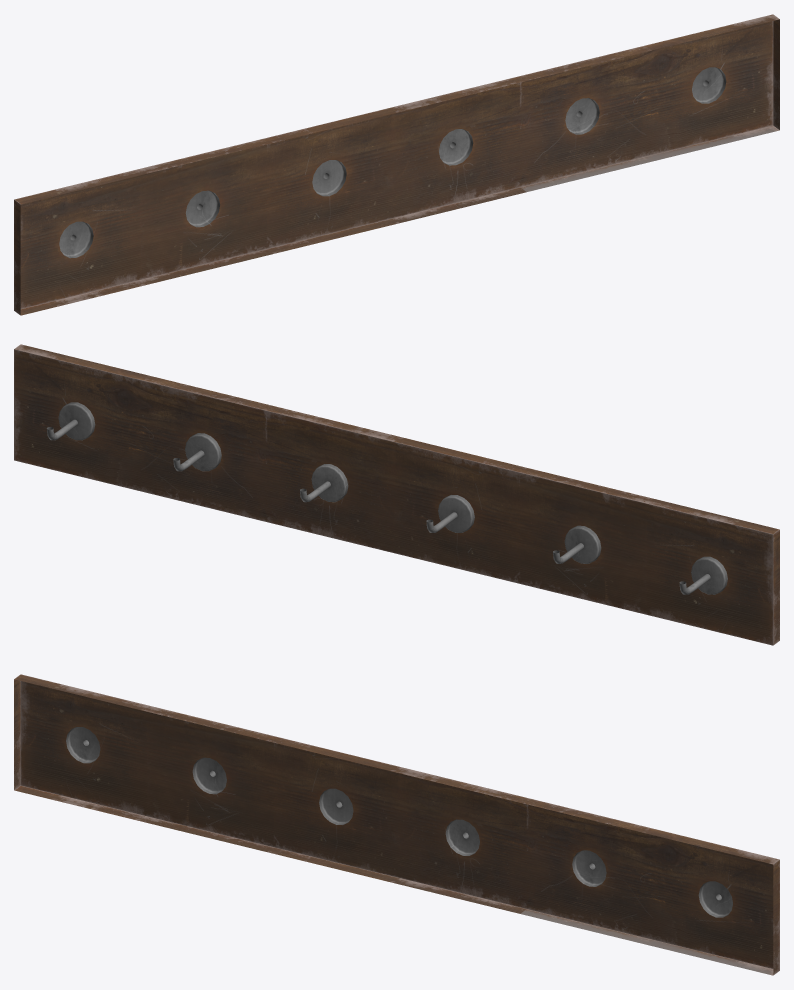
Rendered from PlankHooks.glb.
3 renders of one model, top to bottom at view 1: azimuth 30°, elevation 25°; view 2: azimuth 150°, elevation 25°; view 3: azimuth 330°, elevation 25°, orthographic.
Parts seen in each view (by area): view 1: PlankHooks; view 2: PlankHooks; view 3: PlankHooks.
Boxes of the visible parts, x1=… form: PlankHooks: x1=14, y1=14, x2=779, y2=315; PlankHooks: x1=14, y1=344, x2=779, y2=645; PlankHooks: x1=14, y1=674, x2=779, y2=975.
Size of the model in its own units: 1.15 by 0.1614 by 0.0959.
1 material, 1 textured.
